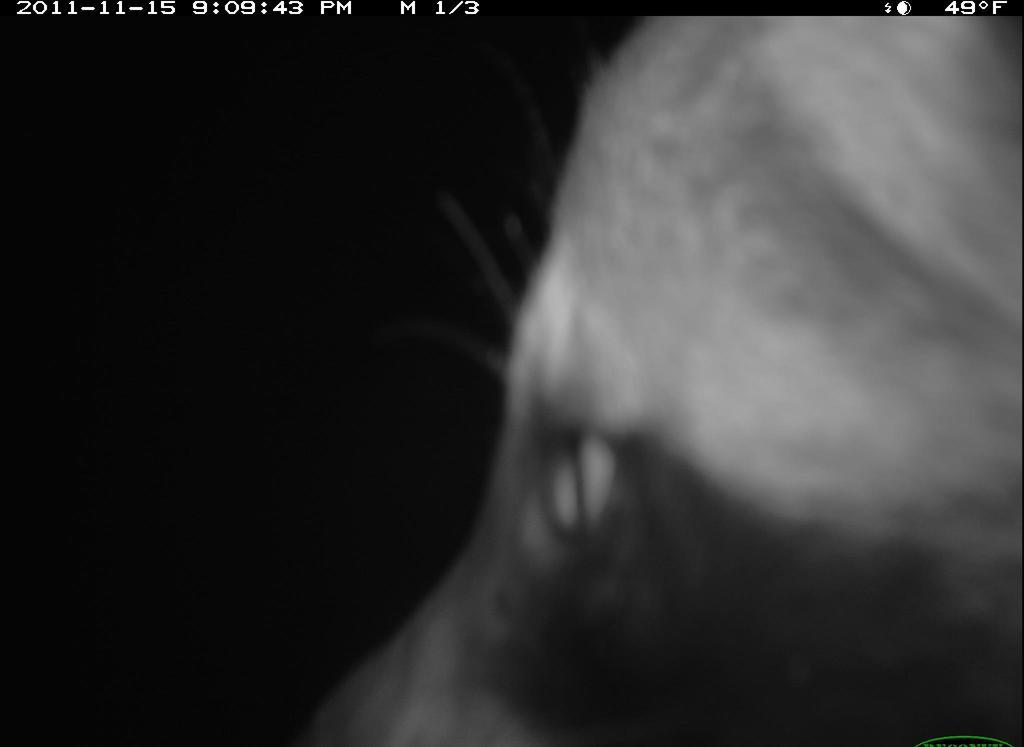raccoon: (287, 18, 1023, 747)
